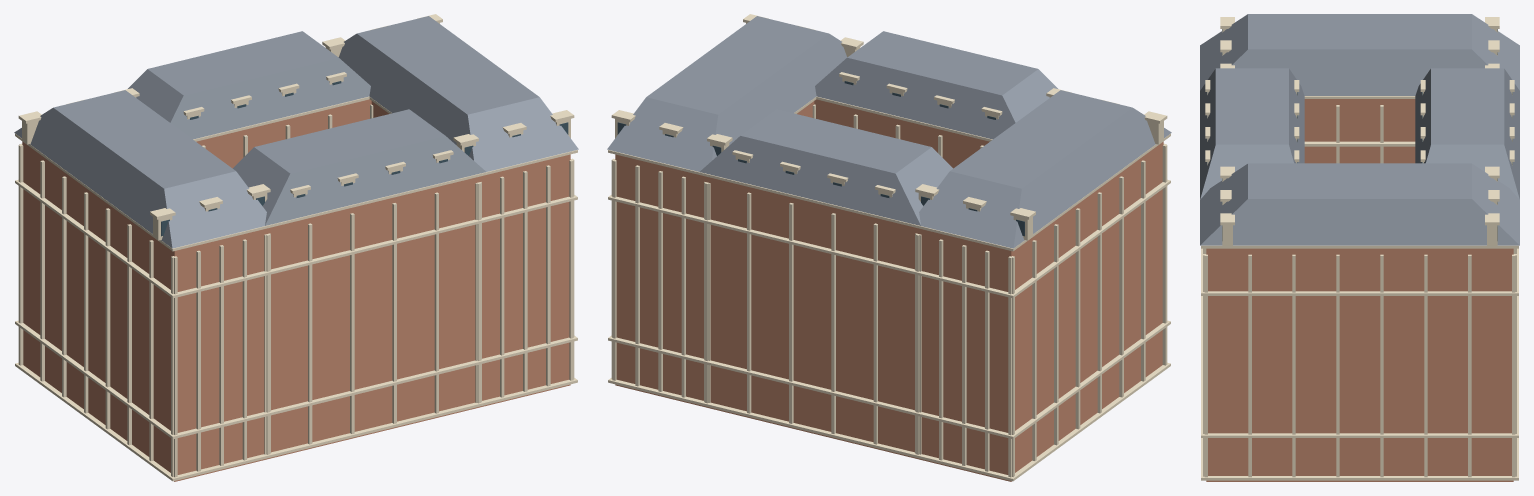
File: heritage-5-lod0.glb
3 views of the same model, side by side, from view 1: azimuth 30°, elevation 25°; view 2: azimuth 150°, elevation 25°; view 3: azimuth 270°, elevation 25° (orthographic).
Visible parts, largest first — view 1: heritage-5_architecture; view 2: heritage-5_architecture; view 3: heritage-5_architecture.
Boxes of the visible parts, left/top/right/bottom form: heritage-5_architecture: left=14, top=14, right=578, bottom=481; heritage-5_architecture: left=607, top=14, right=1171, bottom=481; heritage-5_architecture: left=1200, top=14, right=1519, bottom=481.
Size of the model in its own units: 31.6 by 19.95 by 20.8.
